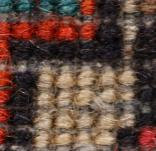Knot: (60, 48, 75, 59), (115, 127, 128, 139), (18, 28, 31, 39), (9, 75, 22, 86), (1, 135, 16, 144), (140, 59, 151, 71), (17, 11, 29, 22), (140, 102, 152, 112), (131, 50, 144, 59), (61, 15, 71, 26), (15, 63, 27, 72), (6, 14, 17, 23)
